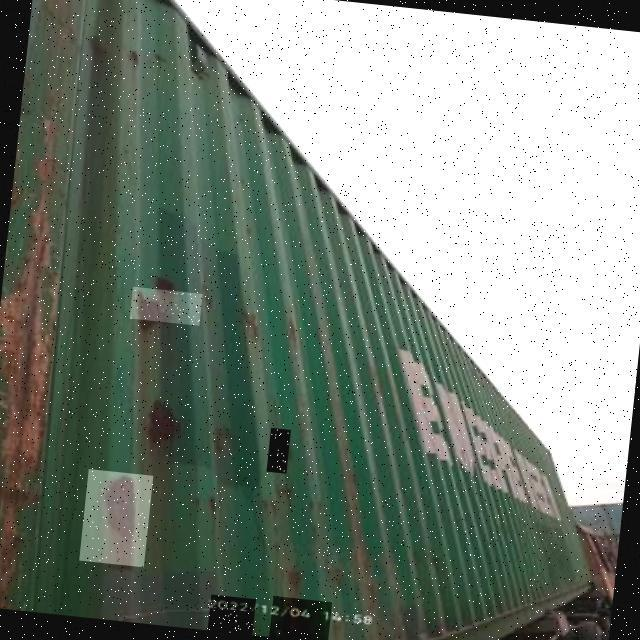Rust: (79, 469, 153, 567), (129, 287, 202, 326), (268, 595, 331, 640), (147, 401, 189, 459), (207, 595, 256, 635), (266, 428, 290, 474)
